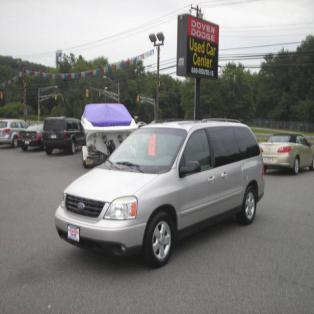Auto: (57, 120, 268, 270)
